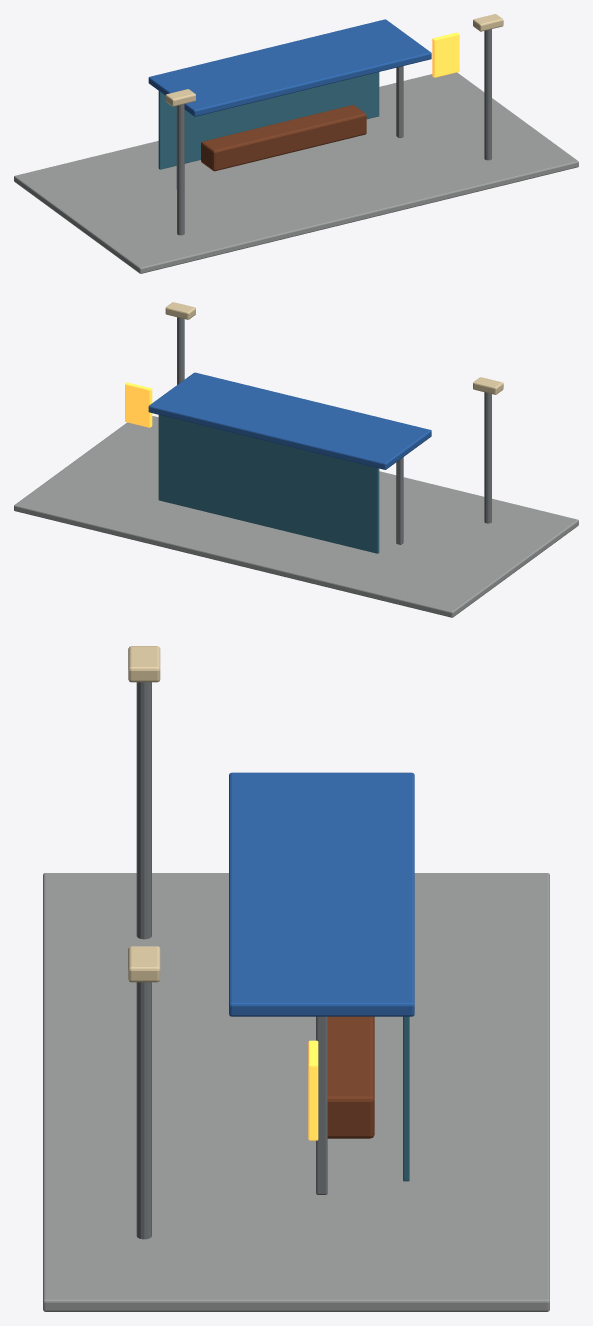
File: neighborhood_bus_stop_a.glb
The picture shows the model from 3 angles, top to bottom: view 1: azimuth 30°, elevation 25°; view 2: azimuth 150°, elevation 25°; view 3: azimuth 270°, elevation 25°; orthographic projection. The views are drawn at different scales.
Parts seen in each view (by area): view 1: SET_Ground, SET_ShelterRoof, SET_ShelterBack, PROP_Bench, PROP_BusSign, SET_LampPost_0, SET_LampPost_1, SET_ShelterPost_3, SET_Lamp_1, SET_Lamp_0; view 2: SET_Ground, SET_ShelterBack, SET_ShelterRoof, PROP_BusSign, SET_LampPost_0, SET_ShelterPost_-3, SET_LampPost_1; view 3: SET_Ground, SET_ShelterRoof, PROP_Bench, SET_LampPost_1, SET_LampPost_0, SET_ShelterPost_3, SET_Lamp_0, SET_Lamp_1, SET_ShelterBack, PROP_BusSign.
Part boxes in pixels (box(x1,y1,x2,y2)): SET_Ground: box(14, 72, 578, 273); SET_ShelterRoof: box(148, 19, 431, 116); SET_ShelterBack: box(158, 72, 379, 169); PROP_Bench: box(201, 105, 366, 171); PROP_BusSign: box(432, 32, 459, 77); SET_LampPost_0: box(177, 104, 184, 235); SET_LampPost_1: box(484, 29, 491, 160); SET_ShelterPost_3: box(396, 66, 403, 137); SET_Lamp_1: box(473, 14, 503, 31); SET_Lamp_0: box(165, 89, 195, 106); SET_Ground: box(14, 416, 578, 617); SET_ShelterBack: box(158, 415, 379, 553); SET_ShelterRoof: box(148, 372, 431, 469); PROP_BusSign: box(125, 382, 152, 427); SET_LampPost_0: box(484, 392, 491, 523); SET_ShelterPost_-3: box(396, 457, 403, 544); SET_LampPost_1: box(177, 317, 184, 384); SET_Ground: box(43, 873, 549, 1311); SET_ShelterRoof: box(229, 772, 414, 1016); PROP_Bench: box(327, 1016, 374, 1138); SET_LampPost_1: box(136, 982, 151, 1239); SET_LampPost_0: box(136, 682, 151, 939); SET_ShelterPost_3: box(316, 1016, 327, 1194); SET_Lamp_0: box(128, 646, 160, 682); SET_Lamp_1: box(128, 946, 160, 982); SET_ShelterBack: box(403, 1016, 409, 1181); PROP_BusSign: box(308, 1040, 318, 1140).
Size of what is drawn, in the model's own units: 12 by 3.81 by 6.
